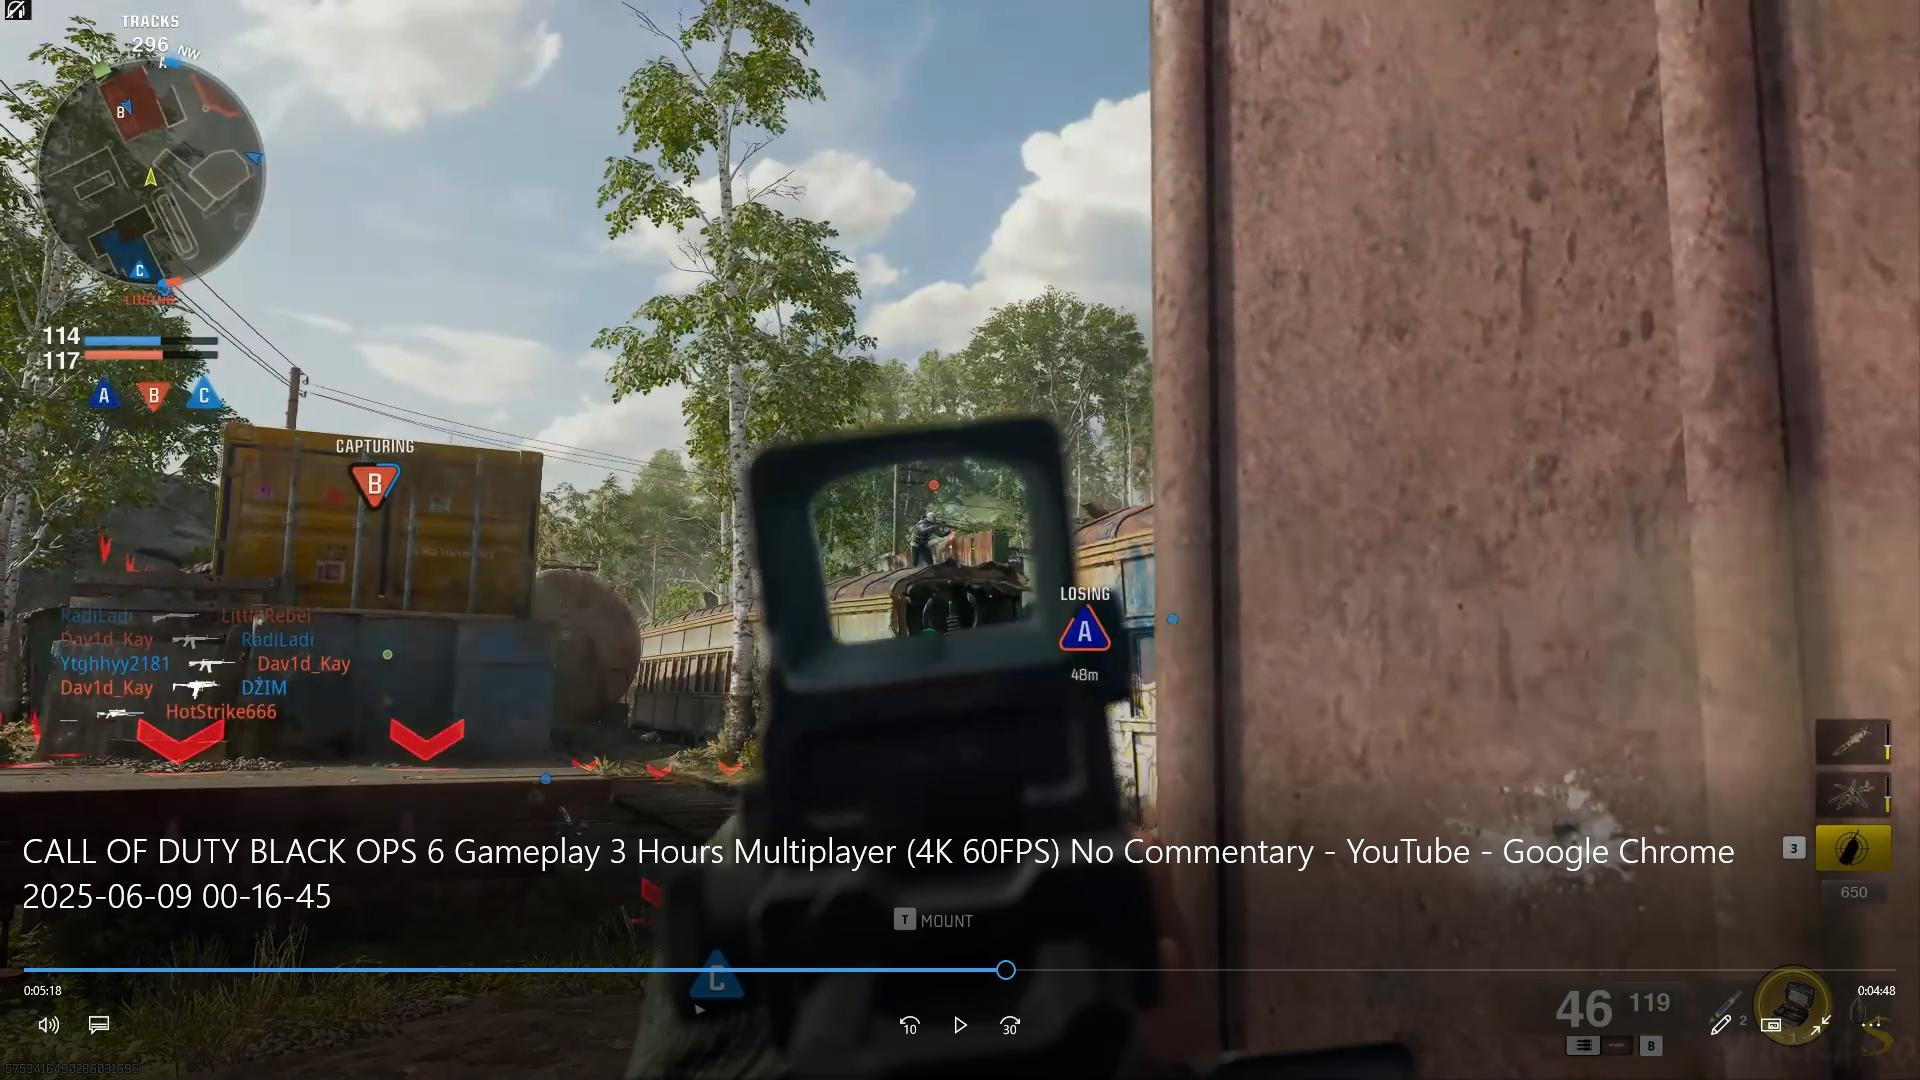Enemy: (891, 504, 963, 560)
